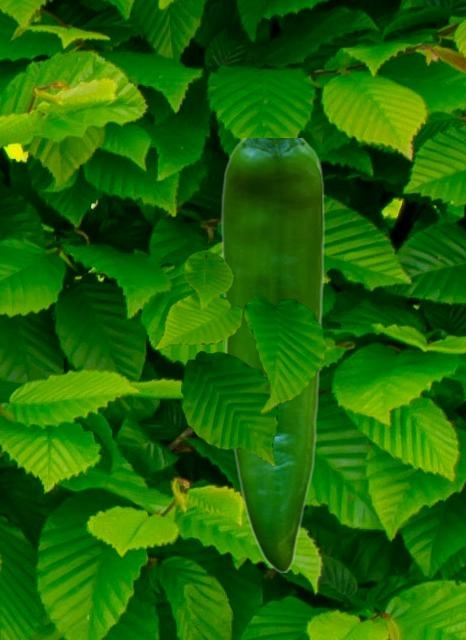green_chili: (220, 138, 324, 571)
